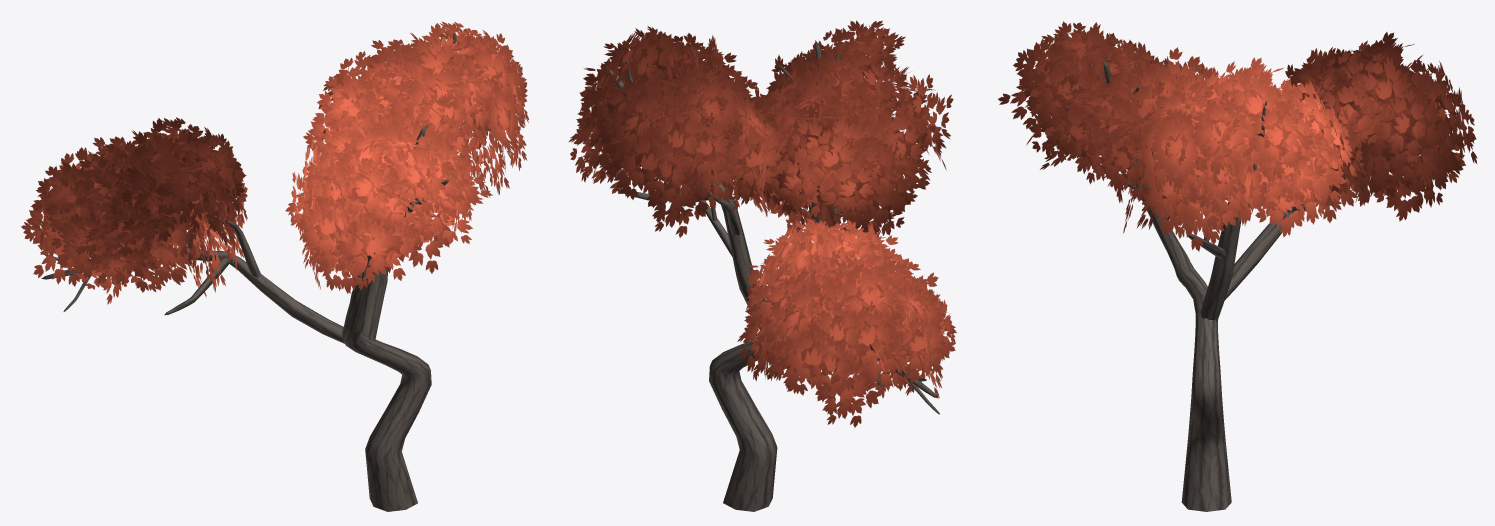
File: mapletree_2.1cb85262.glb
3 views of the same model, side by side, from view 1: azimuth 30°, elevation 25°; view 2: azimuth 150°, elevation 25°; view 3: azimuth 270°, elevation 25° (orthographic). The views are drawn at different scales.
Parts seen in each view (by area): view 1: MapleTree_2; view 2: MapleTree_2; view 3: MapleTree_2.
Part boxes in pixels (box(x1,y1,x2,y2)): MapleTree_2: box(21, 21, 529, 511); MapleTree_2: box(568, 20, 956, 511); MapleTree_2: box(998, 21, 1477, 511).
Bounding box in the file's own units: 6.7 × 6.71 × 6.24.
Materials: 2 (2 with a texture image).
